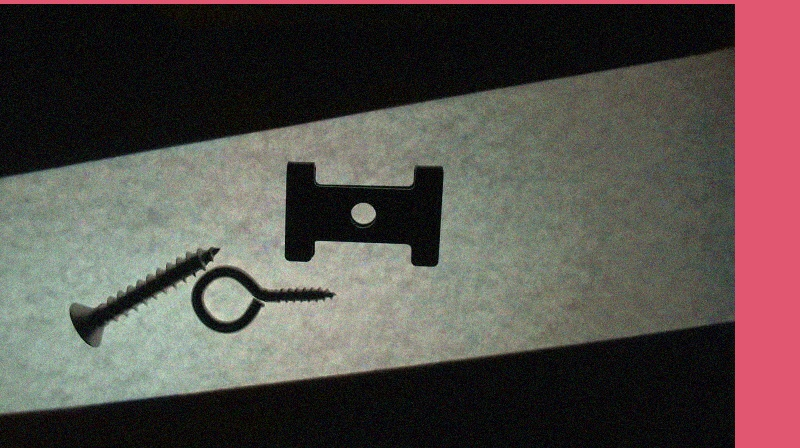O001: (186, 262, 338, 336)
O002: (278, 158, 446, 269)
S001: (64, 243, 224, 350)
